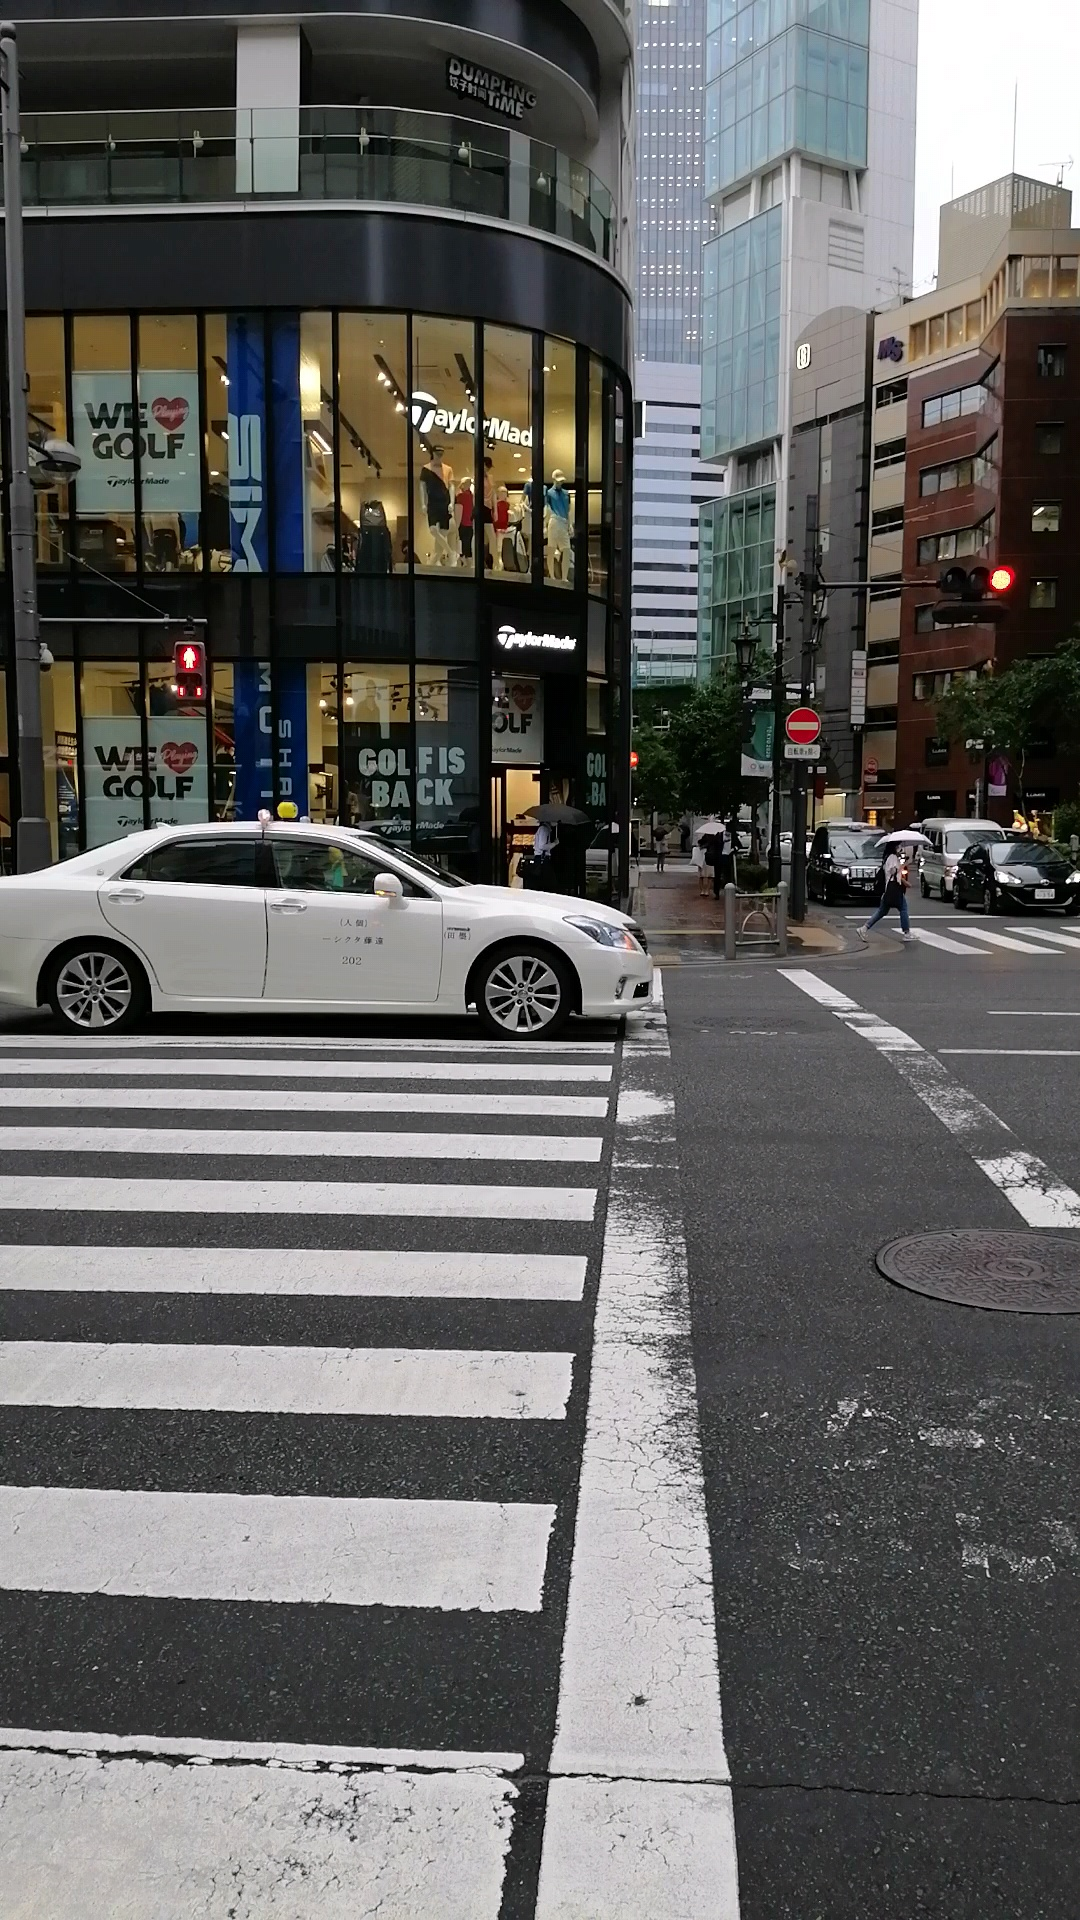red: (171, 637, 206, 705)
